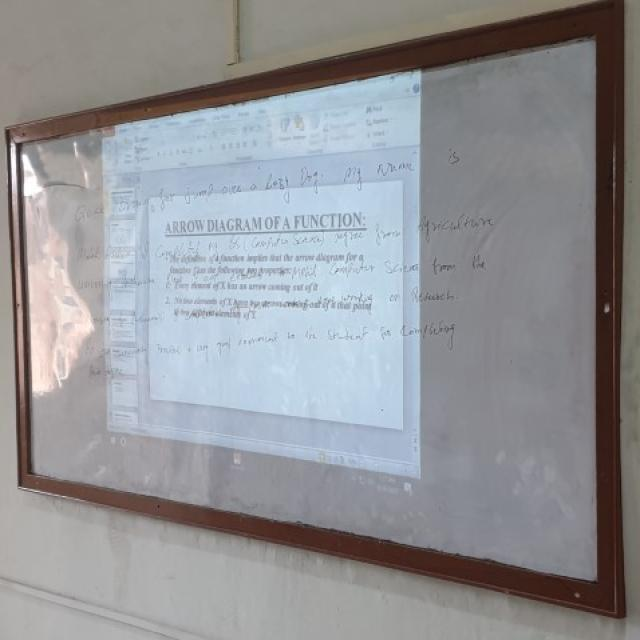Slide: (102, 66, 425, 501)
White-board: (18, 22, 610, 597)
